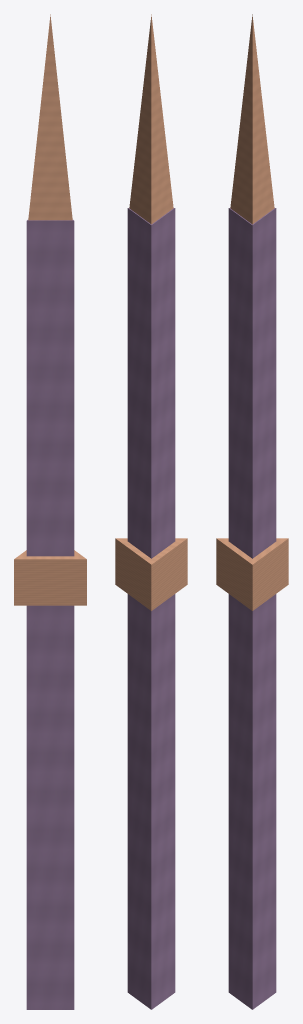
File: atlas100-s085-a05.lod2.glb
3 renders of one model, left to right at view 1: azimuth 90°, elevation 25°; view 2: azimuth 150°, elevation 25°; view 3: azimuth 270°, elevation 25°, orthographic.
Parts seen in each view (by area): view 1: atlas100-s085-a05:part-000, atlas100-s085-a05:part-004, atlas100-s085-a05:part-003; view 2: atlas100-s085-a05:part-000, atlas100-s085-a05:part-004, atlas100-s085-a05:part-003; view 3: atlas100-s085-a05:part-000, atlas100-s085-a05:part-004, atlas100-s085-a05:part-003.
Part boxes in pixels (left/top/right/bottom): atlas100-s085-a05:part-000: left=26, top=220, right=74, bottom=1009; atlas100-s085-a05:part-004: left=28, top=14, right=72, bottom=220; atlas100-s085-a05:part-003: left=14, top=550, right=86, bottom=605; atlas100-s085-a05:part-000: left=127, top=208, right=175, bottom=1009; atlas100-s085-a05:part-004: left=129, top=14, right=173, bottom=224; atlas100-s085-a05:part-003: left=115, top=538, right=187, bottom=610; atlas100-s085-a05:part-000: left=228, top=208, right=276, bottom=1009; atlas100-s085-a05:part-004: left=230, top=14, right=274, bottom=224; atlas100-s085-a05:part-003: left=216, top=538, right=288, bottom=610.
Size of the model in its own units: 0.0868 by 1.51 by 0.1002.
Materials: 2 (2 with a texture image).
